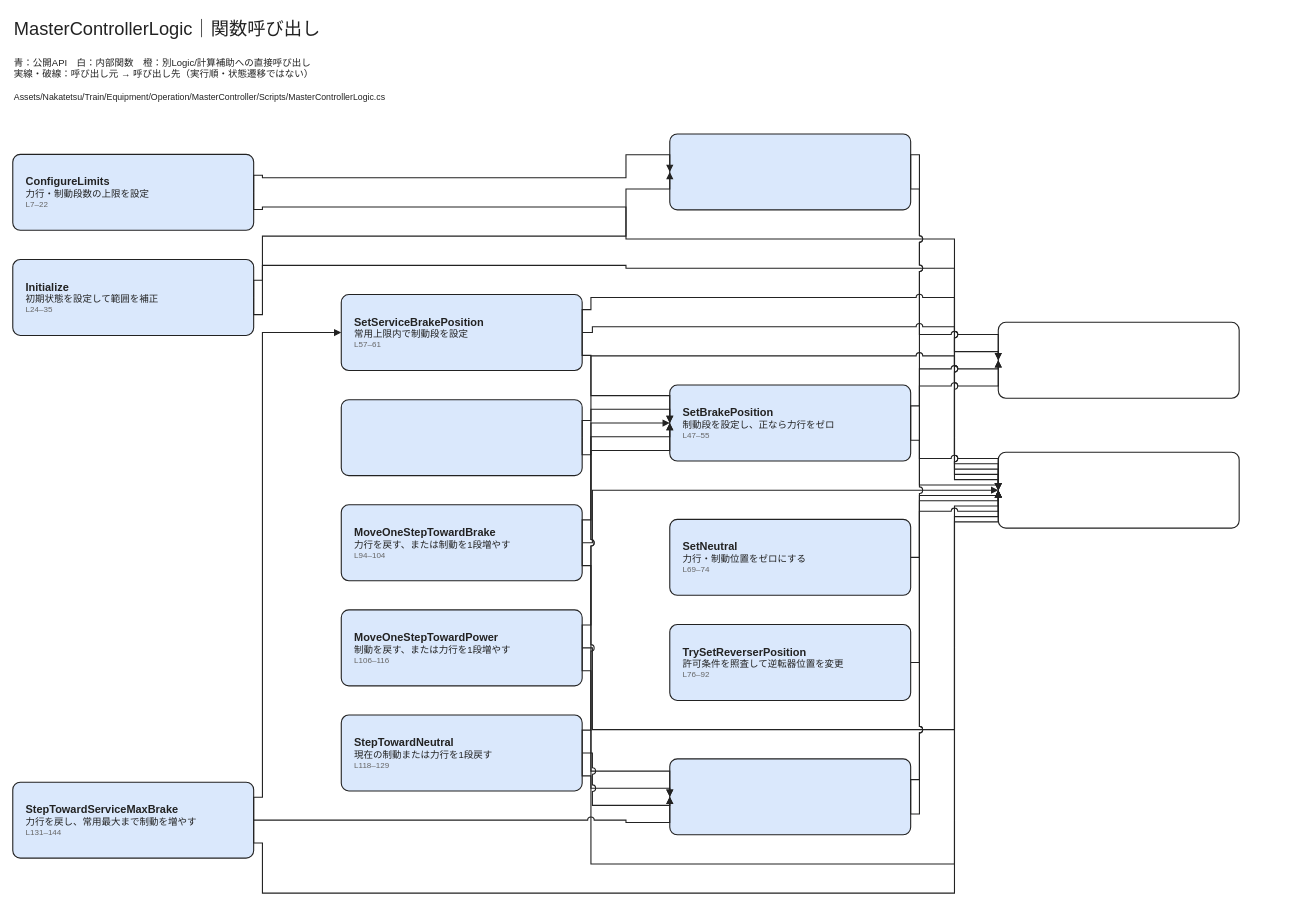
This 1303x912 diagram has some shape labels left out. Here are the shapes that lost their labels. From the top down, the box of each, then its label:
(669, 133, 911, 210): Normalize 設定・状態の範囲と排他を補正 L146–168
(997, 321, 1239, 398): Clamp 値を指定範囲へ制限 L170–173
(340, 399, 582, 476): Set Emergency Brake 非常ブレーキ位置を設定 L63–67
(997, 451, 1239, 528): Throw If Null Context欠損を例外として検出 L175–181
(669, 758, 911, 835): Set Power Position 力行段を設定し、正なら制動をゼロ L37–45
